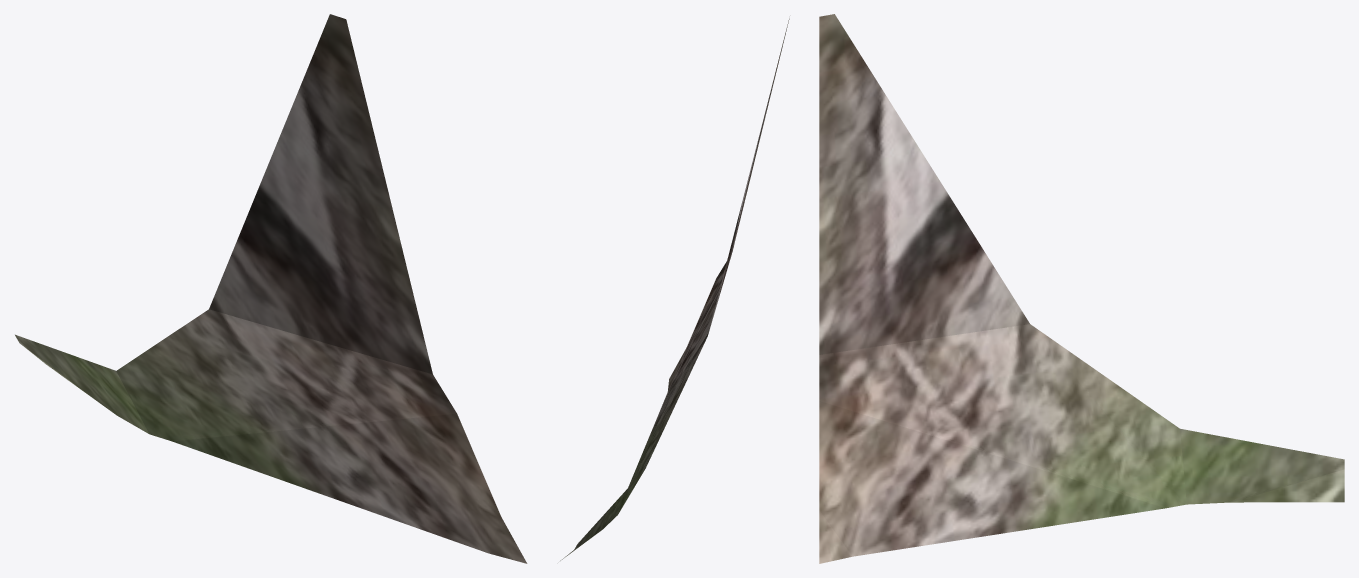
3 renders of one model, left to right at view 1: azimuth 30°, elevation 25°; view 2: azimuth 150°, elevation 25°; view 3: azimuth 270°, elevation 25°, orthographic. The views are drawn at different scales.
Size of the model in its own units: 0.9859 by 2.95 by 2.95.
1 material, 1 textured.
